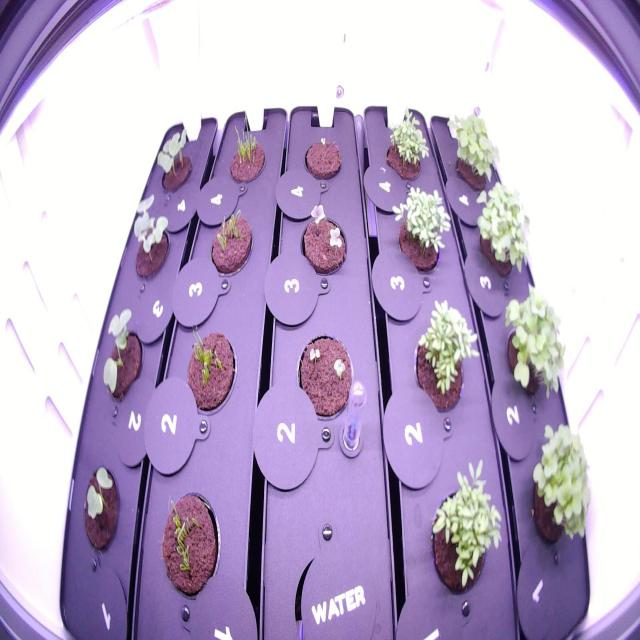germination: (422, 454, 507, 606), (526, 418, 593, 563), (497, 281, 572, 410), (409, 294, 482, 420), (156, 484, 224, 608), (290, 324, 357, 434), (474, 174, 541, 284), (388, 183, 458, 281), (177, 319, 241, 423), (121, 187, 179, 292), (73, 458, 127, 566), (445, 107, 507, 195), (98, 299, 146, 407), (294, 200, 352, 282), (377, 109, 434, 184), (204, 203, 256, 283), (222, 106, 269, 190), (150, 122, 198, 200), (298, 127, 346, 185)
